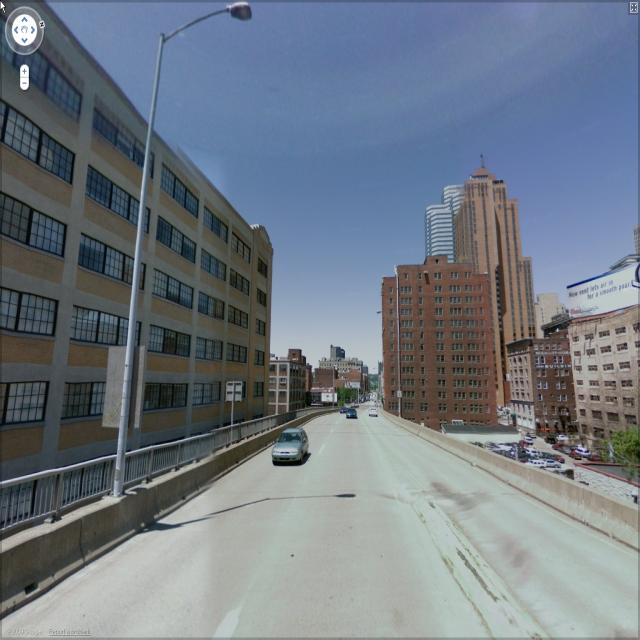b_1: (0, 12, 278, 414), (382, 264, 501, 424), (463, 182, 535, 335), (567, 319, 640, 439), (512, 336, 576, 438), (424, 182, 468, 260), (272, 349, 318, 412)
